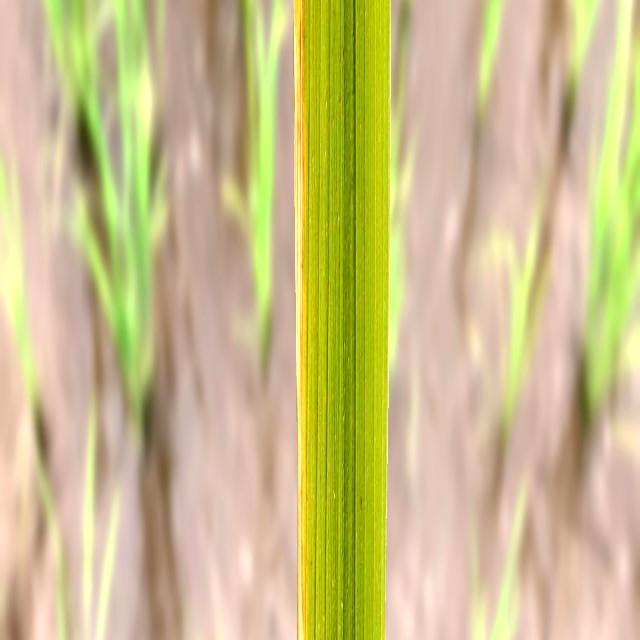BLS: (294, 0, 307, 640)
